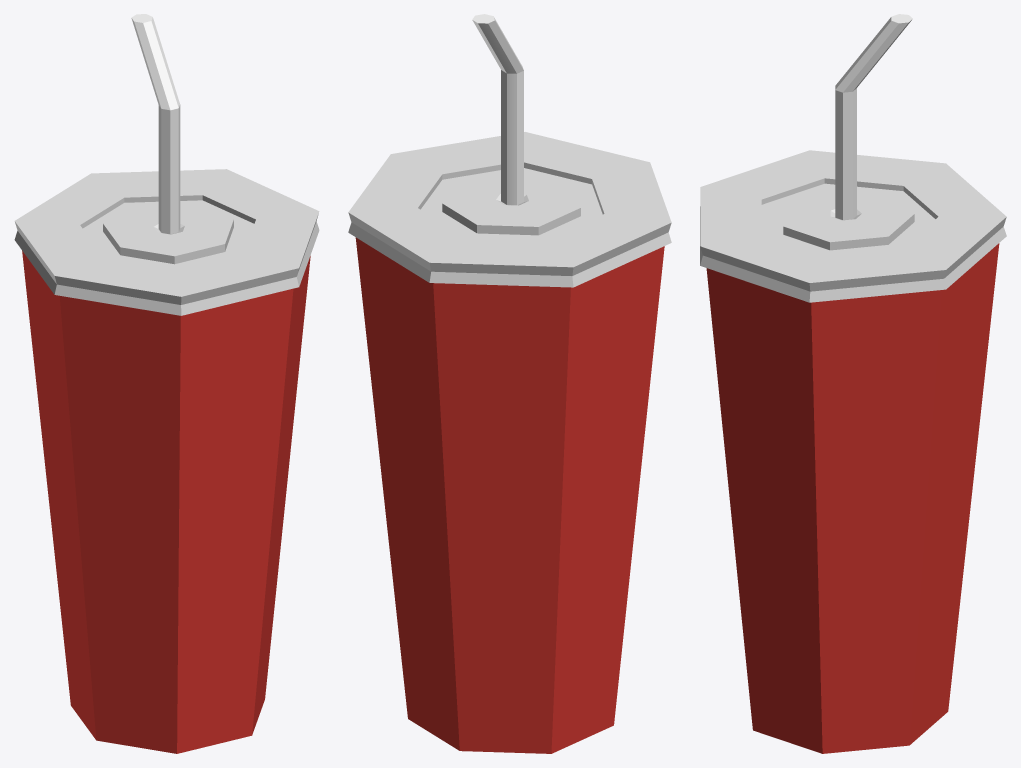
File: SM_Food_Soda_01.fbx
3 views of the same model, side by side, from view 1: azimuth 30°, elevation 25°; view 2: azimuth 150°, elevation 25°; view 3: azimuth 270°, elevation 25° (orthographic). The views are drawn at different scales.
Visible parts, largest first — view 1: SM_Food_Soda_01; view 2: SM_Food_Soda_01; view 3: SM_Food_Soda_01.
Boxes of the visible parts, x1,y1,x2,y2 form: SM_Food_Soda_01: (14,14,319,753); SM_Food_Soda_01: (348,14,671,753); SM_Food_Soda_01: (700,14,1006,753).
Size of the model in its own units: 0.1226 by 0.2979 by 0.1195.
